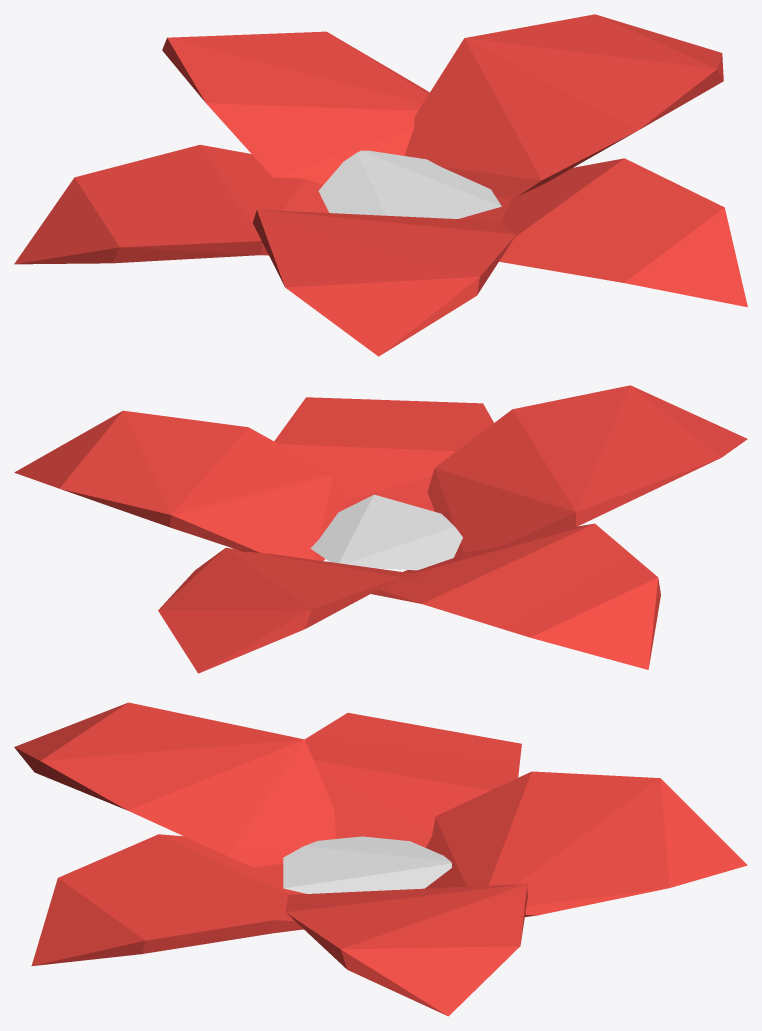
File: Flower_02.fbx
3 renders of one model, top to bottom at view 1: azimuth 30°, elevation 25°; view 2: azimuth 150°, elevation 25°; view 3: azimuth 270°, elevation 25°, orthographic. The views are drawn at different scales.
Visible parts, largest first — view 1: Flower_02_LOD0; view 2: Flower_02_LOD0; view 3: Flower_02_LOD0.
Boxes of the visible parts, x1,y1,x2,y2 form: Flower_02_LOD0: (14,14,747,356); Flower_02_LOD0: (14,385,747,673); Flower_02_LOD0: (14,702,747,1016).
Size of what is drawn, in the model's own units: 29.2 by 4.4 by 28.25.
